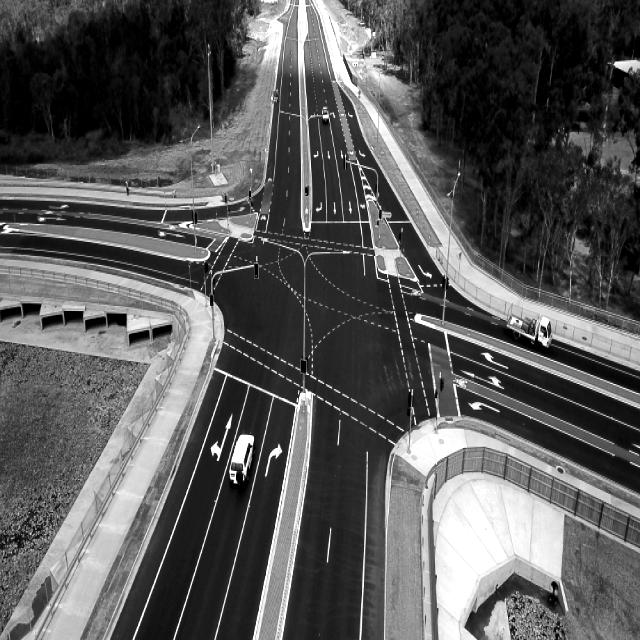cleat: (30, 5, 640, 640)
